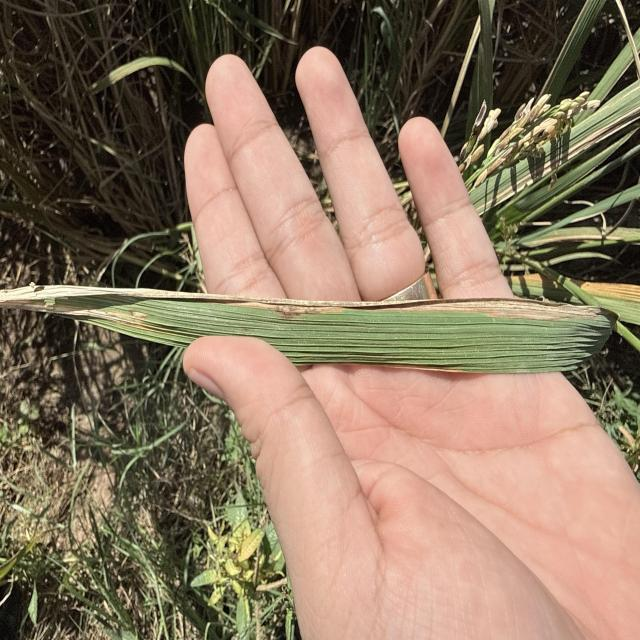Chay bia la: (0, 285, 603, 324), (1, 301, 140, 327)
